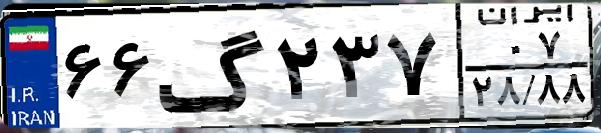0: (508, 27, 537, 80)
2: (270, 28, 330, 110), (470, 70, 495, 125)
3: (330, 28, 385, 110)
6: (57, 26, 110, 100), (110, 28, 156, 98)
7: (385, 28, 445, 110), (537, 27, 568, 80)
8: (560, 70, 590, 125), (495, 70, 520, 125), (535, 70, 560, 125)
گ: (156, 12, 270, 120)
